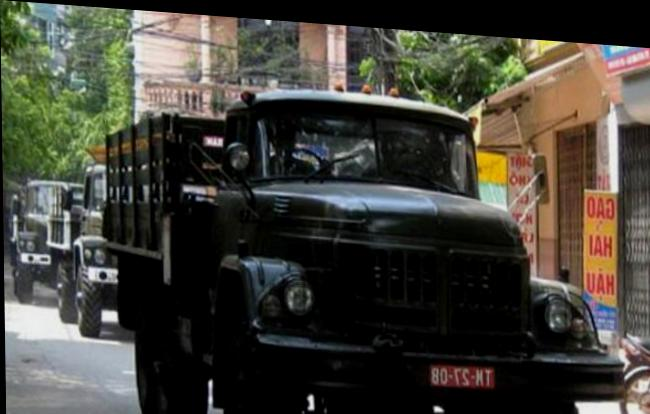License_Plate: (428, 361, 498, 397)
